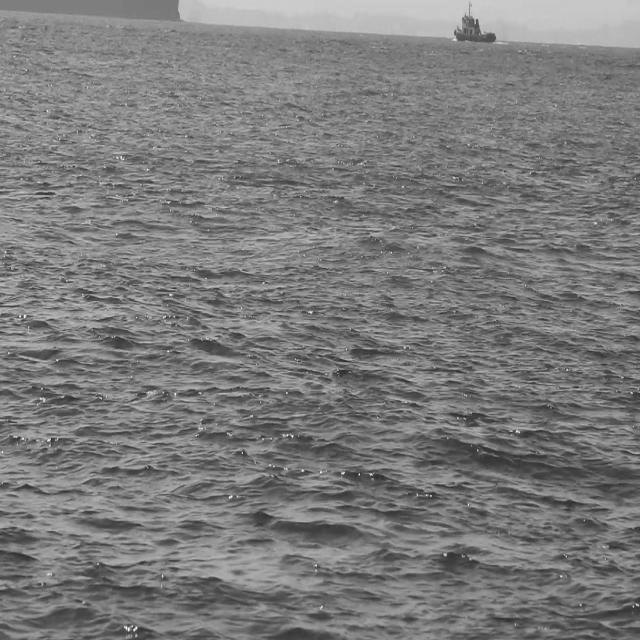ship: (2, 0, 187, 34), (452, 8, 500, 58)
